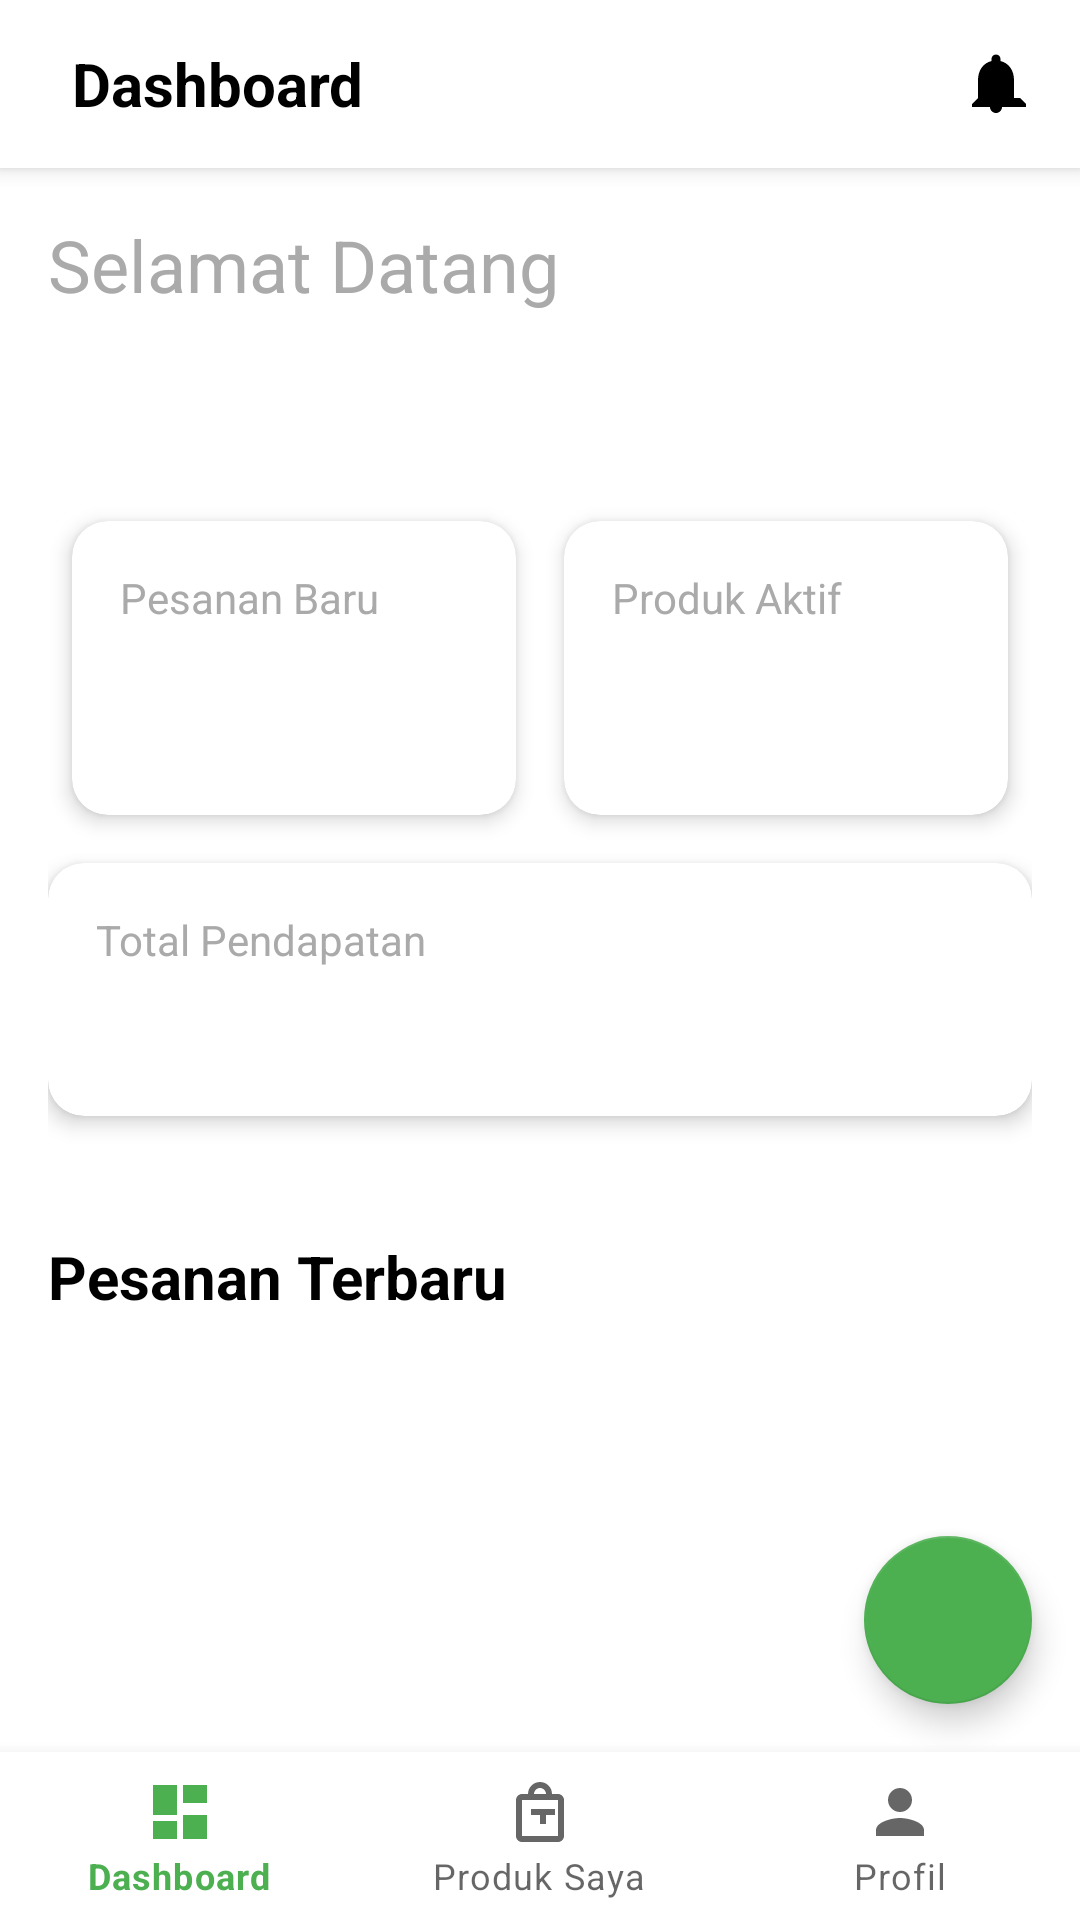

Named icons in this screenshot (1080px x 1920px) and their bounding boxes, (x1, y1, x2, y2):
Notifikasi: (972, 54, 1026, 113)
